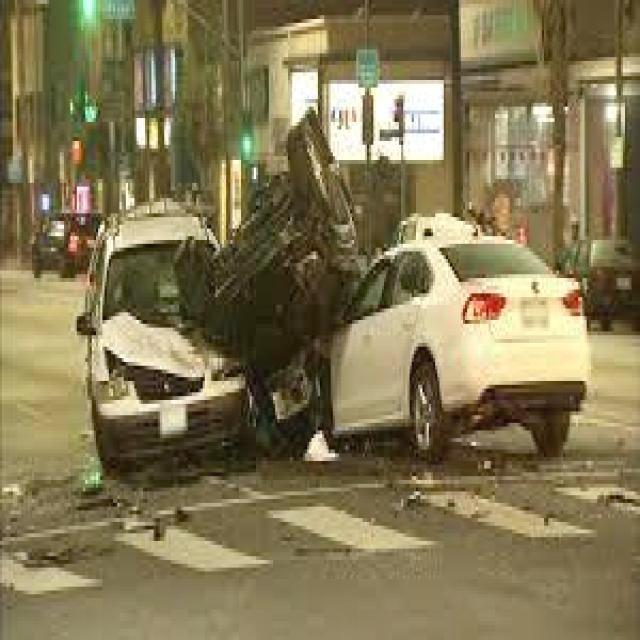car Accident: (88, 171, 563, 462)
